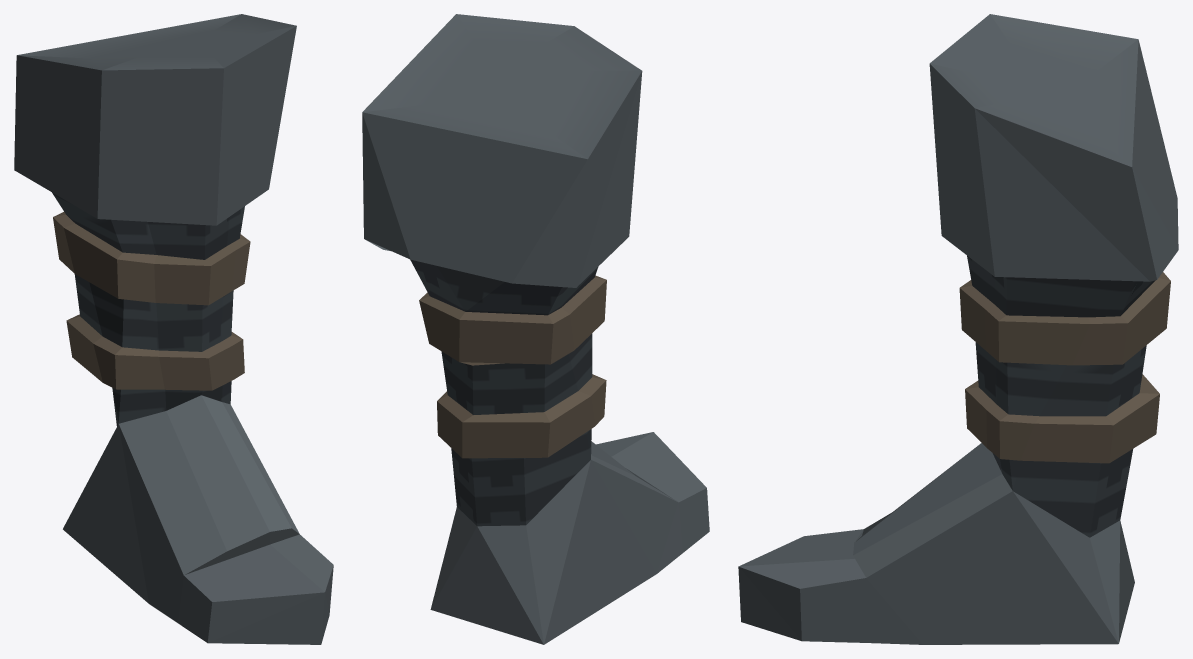
Rendered from Chr_LegRight_Female_07_Static.fbx.
3 renders of one model, left to right at view 1: azimuth 30°, elevation 25°; view 2: azimuth 150°, elevation 25°; view 3: azimuth 270°, elevation 25°, orthographic. The views are drawn at different scales.
Parts seen in each view (by area): view 1: Chr_LegRight_Female_07_Static; view 2: Chr_LegRight_Female_07_Static; view 3: Chr_LegRight_Female_07_Static.
Boxes of the visible parts, <box> form: Chr_LegRight_Female_07_Static: <box>14,14,333,644</box>; Chr_LegRight_Female_07_Static: <box>362,14,709,644</box>; Chr_LegRight_Female_07_Static: <box>738,14,1178,644</box>.
Bounding box in the file's own units: 0.1831 × 0.4088 × 0.2922.
